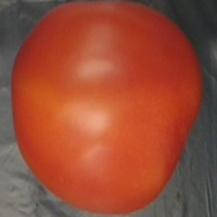unripe: (7, 0, 210, 217)
